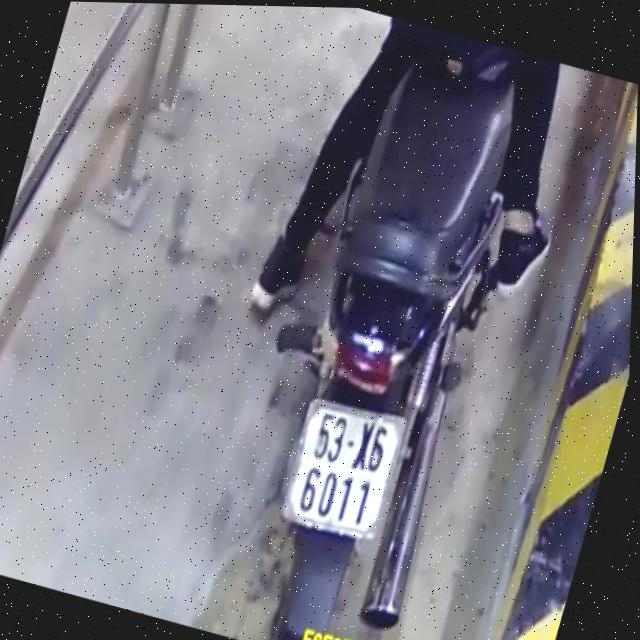motorcycle: (222, 69, 560, 640)
plate: (275, 391, 407, 542)
